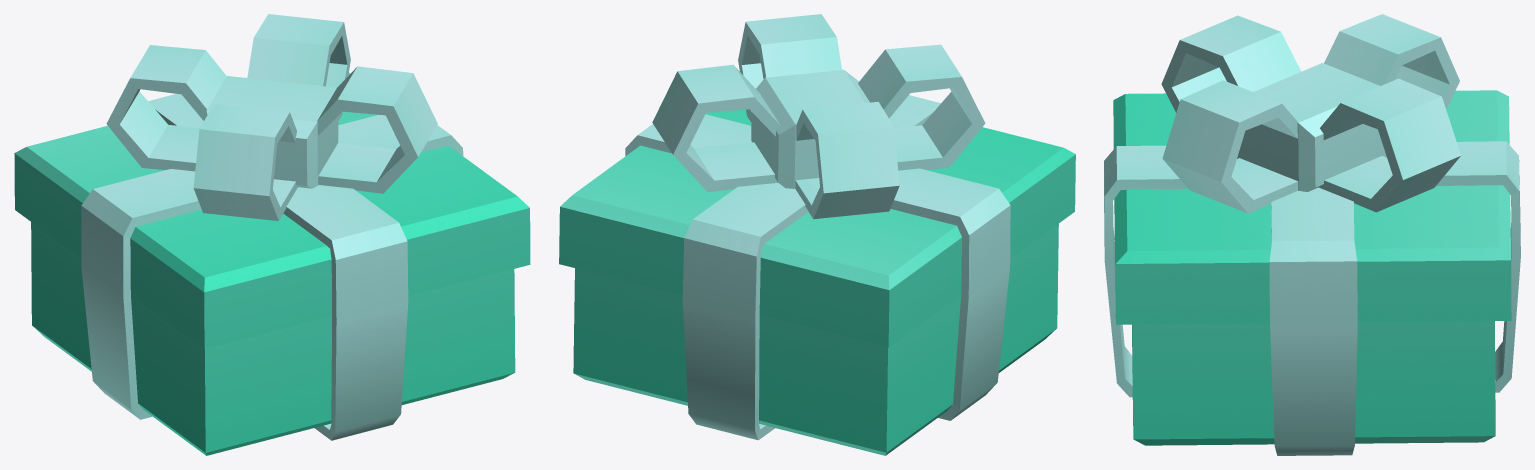
3 renders of one model, left to right at view 1: azimuth 30°, elevation 25°; view 2: azimuth 150°, elevation 25°; view 3: azimuth 270°, elevation 25°, orthographic. The views are drawn at different scales.
Visible parts, largest first — view 1: Christmas_Present_07; view 2: Christmas_Present_07; view 3: Christmas_Present_07.
Boxes of the visible parts, <box> form: Christmas_Present_07: <box>14,14,530,455</box>; Christmas_Present_07: <box>559,14,1075,455</box>; Christmas_Present_07: <box>1104,14,1520,455</box>.
Bounding box in the file's own units: 25.65 × 21.32 × 25.64.
Materials: 1 (1 with a texture image).
